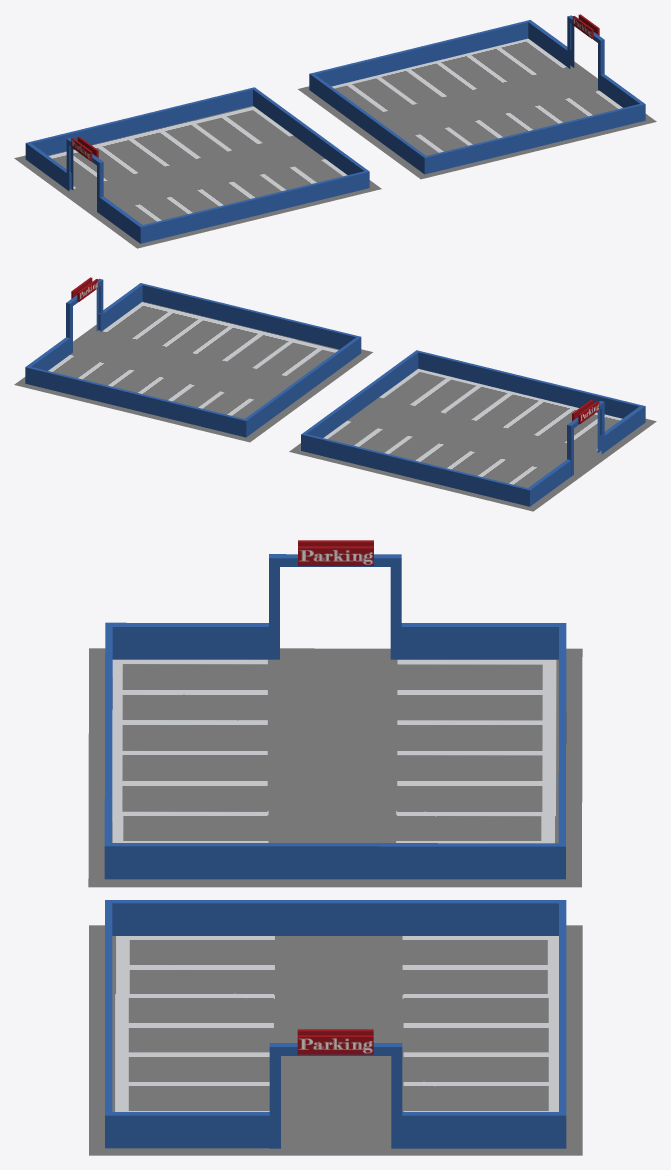
File: parking.glb
3 renders of one model, top to bottom at view 1: azimuth 30°, elevation 25°; view 2: azimuth 150°, elevation 25°; view 3: azimuth 270°, elevation 25°, orthographic. The views are drawn at different scales.
Visible parts, largest first — view 1: Cercle; view 2: Cercle; view 3: Cercle.
Boxes of the visible parts, box(x1,y1,x2,y2) form: Cercle: box(14, 14, 656, 248); Cercle: box(14, 277, 656, 511); Cercle: box(88, 540, 582, 1155).
Size of the model in its own units: 32.09 by 3.34 by 13.21.
Materials: 1 (1 with a texture image).
